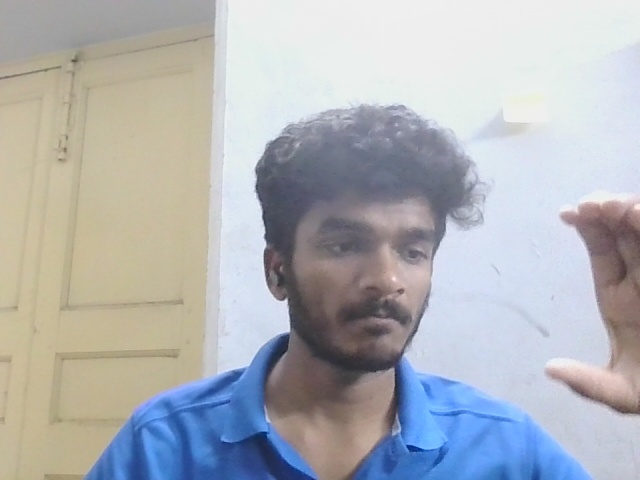No: (464, 182, 640, 427)
